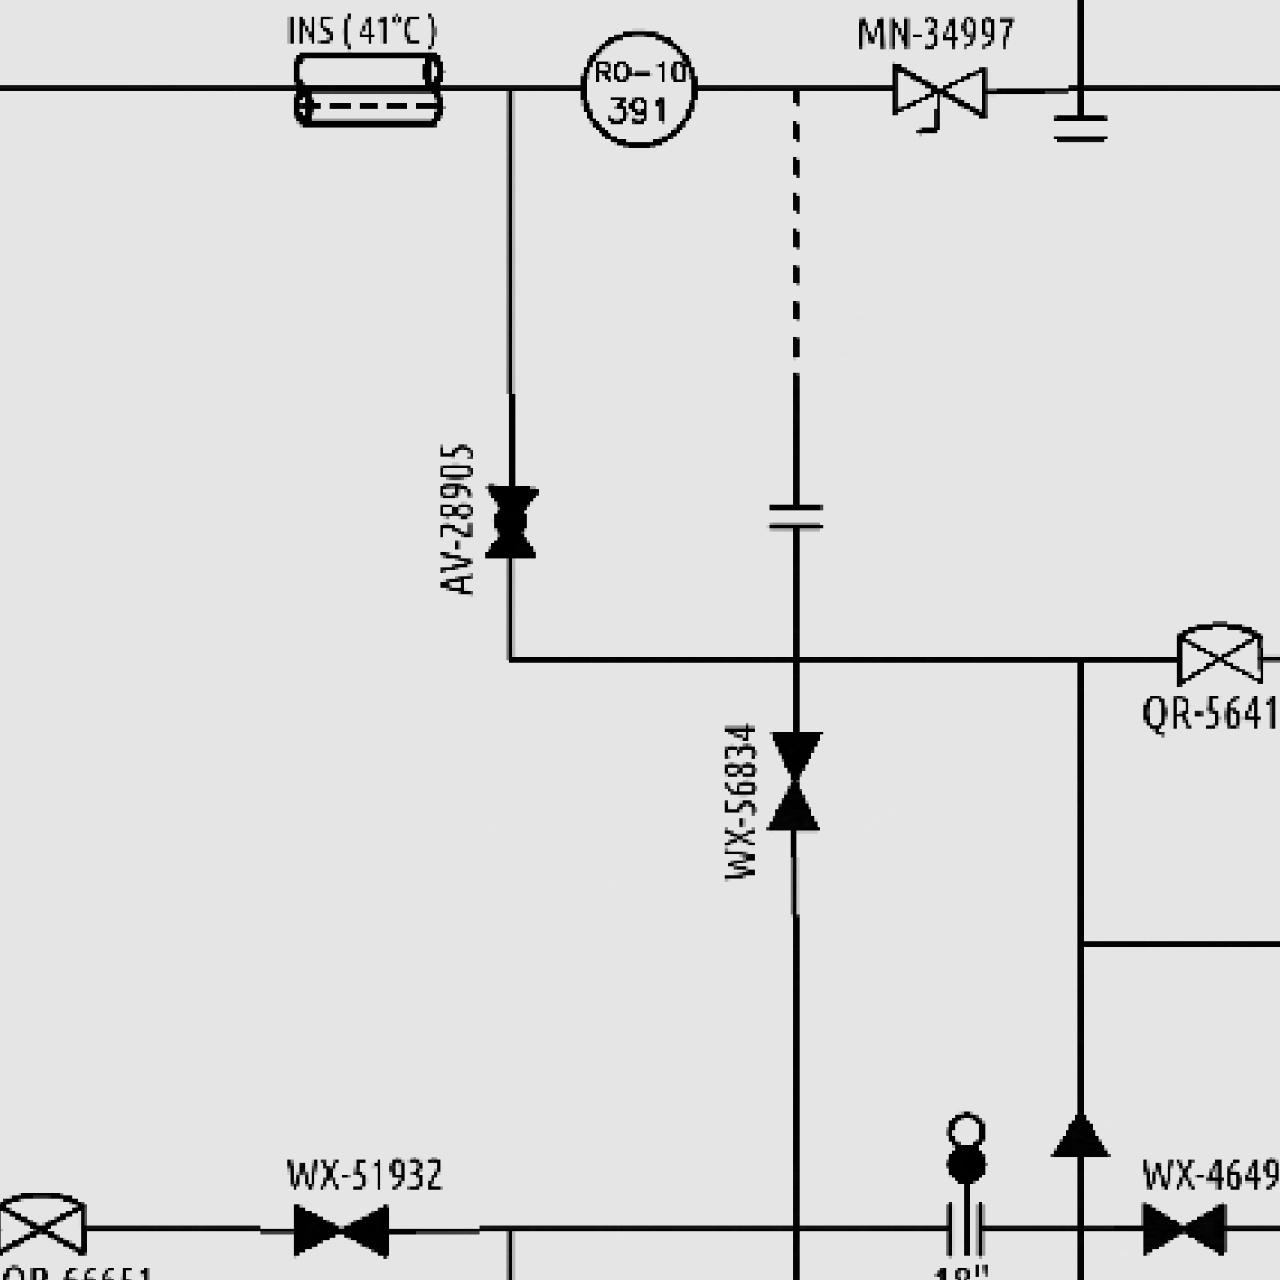Control-Panel: (574, 25, 701, 151)
